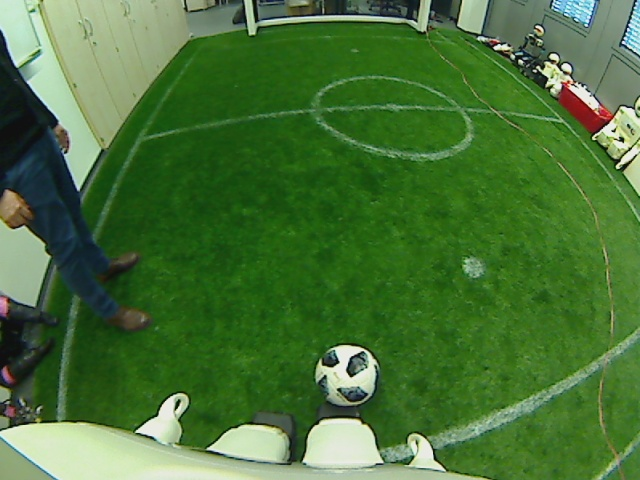ball: (313, 341, 379, 409)
